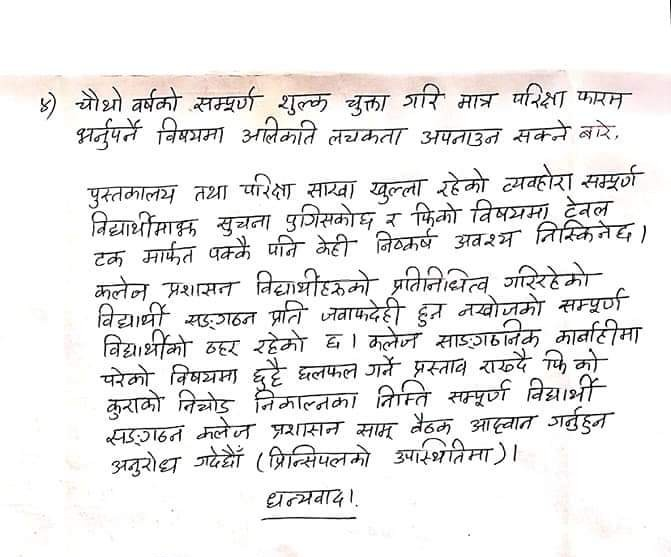text: (252, 267, 372, 298), (86, 210, 200, 240), (385, 265, 496, 295), (437, 322, 547, 351), (502, 262, 608, 290), (264, 444, 370, 472), (537, 220, 639, 249), (253, 388, 362, 414), (237, 116, 318, 150), (85, 179, 178, 208), (393, 442, 494, 468), (263, 484, 350, 514), (100, 333, 193, 361), (283, 202, 372, 231), (524, 376, 609, 405), (458, 292, 546, 320), (71, 118, 143, 151), (105, 450, 184, 480), (152, 117, 224, 149), (443, 378, 517, 409), (92, 302, 171, 331), (555, 318, 641, 344), (546, 405, 618, 435), (102, 422, 188, 447), (326, 125, 408, 151), (182, 304, 258, 332), (268, 415, 346, 442), (470, 196, 553, 221), (318, 300, 401, 325), (501, 165, 575, 193), (103, 388, 167, 420), (158, 277, 245, 300), (419, 125, 505, 148), (167, 362, 242, 388), (375, 229, 443, 257), (579, 161, 640, 192), (212, 206, 273, 237), (448, 228, 521, 253), (561, 288, 631, 314), (193, 415, 259, 442), (431, 167, 490, 197), (191, 87, 264, 111), (239, 173, 295, 204), (176, 388, 237, 415), (466, 412, 537, 435), (90, 274, 150, 301), (367, 176, 424, 204), (572, 85, 631, 112), (515, 119, 569, 147), (374, 381, 430, 408), (95, 365, 160, 388), (142, 239, 197, 266), (400, 82, 446, 114), (206, 233, 254, 263), (263, 298, 311, 328), (253, 331, 308, 357), (274, 88, 330, 113), (410, 201, 461, 228), (195, 444, 246, 471), (365, 326, 420, 351), (511, 84, 568, 108), (73, 86, 125, 112), (410, 357, 471, 379), (293, 361, 360, 381), (312, 230, 359, 258), (478, 349, 532, 372), (344, 92, 392, 117), (306, 177, 360, 199), (130, 87, 179, 111), (189, 176, 231, 204), (409, 410, 456, 435), (564, 195, 615, 218), (249, 356, 284, 389), (356, 416, 397, 443), (577, 116, 615, 145), (571, 347, 611, 374), (412, 299, 449, 326), (453, 90, 501, 110), (263, 235, 302, 259), (364, 354, 400, 380), (204, 336, 243, 359), (91, 246, 128, 270), (540, 348, 570, 373), (316, 328, 345, 353), (31, 90, 54, 121), (378, 209, 400, 227)
